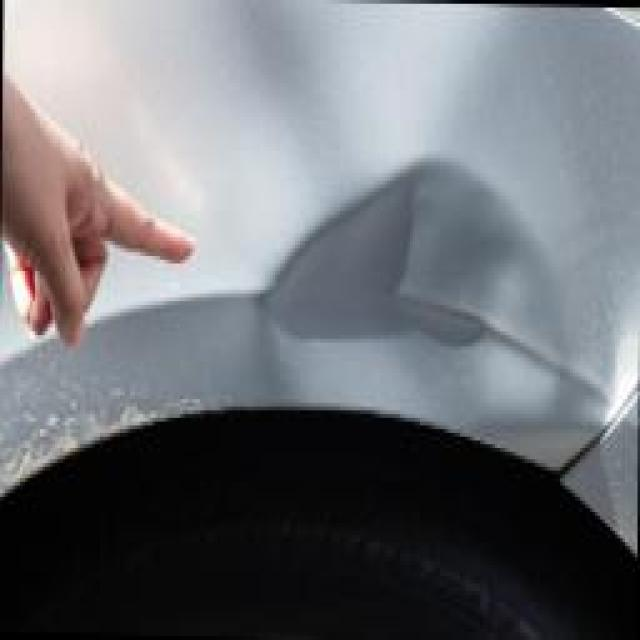Fender: (202, 105, 608, 467)
